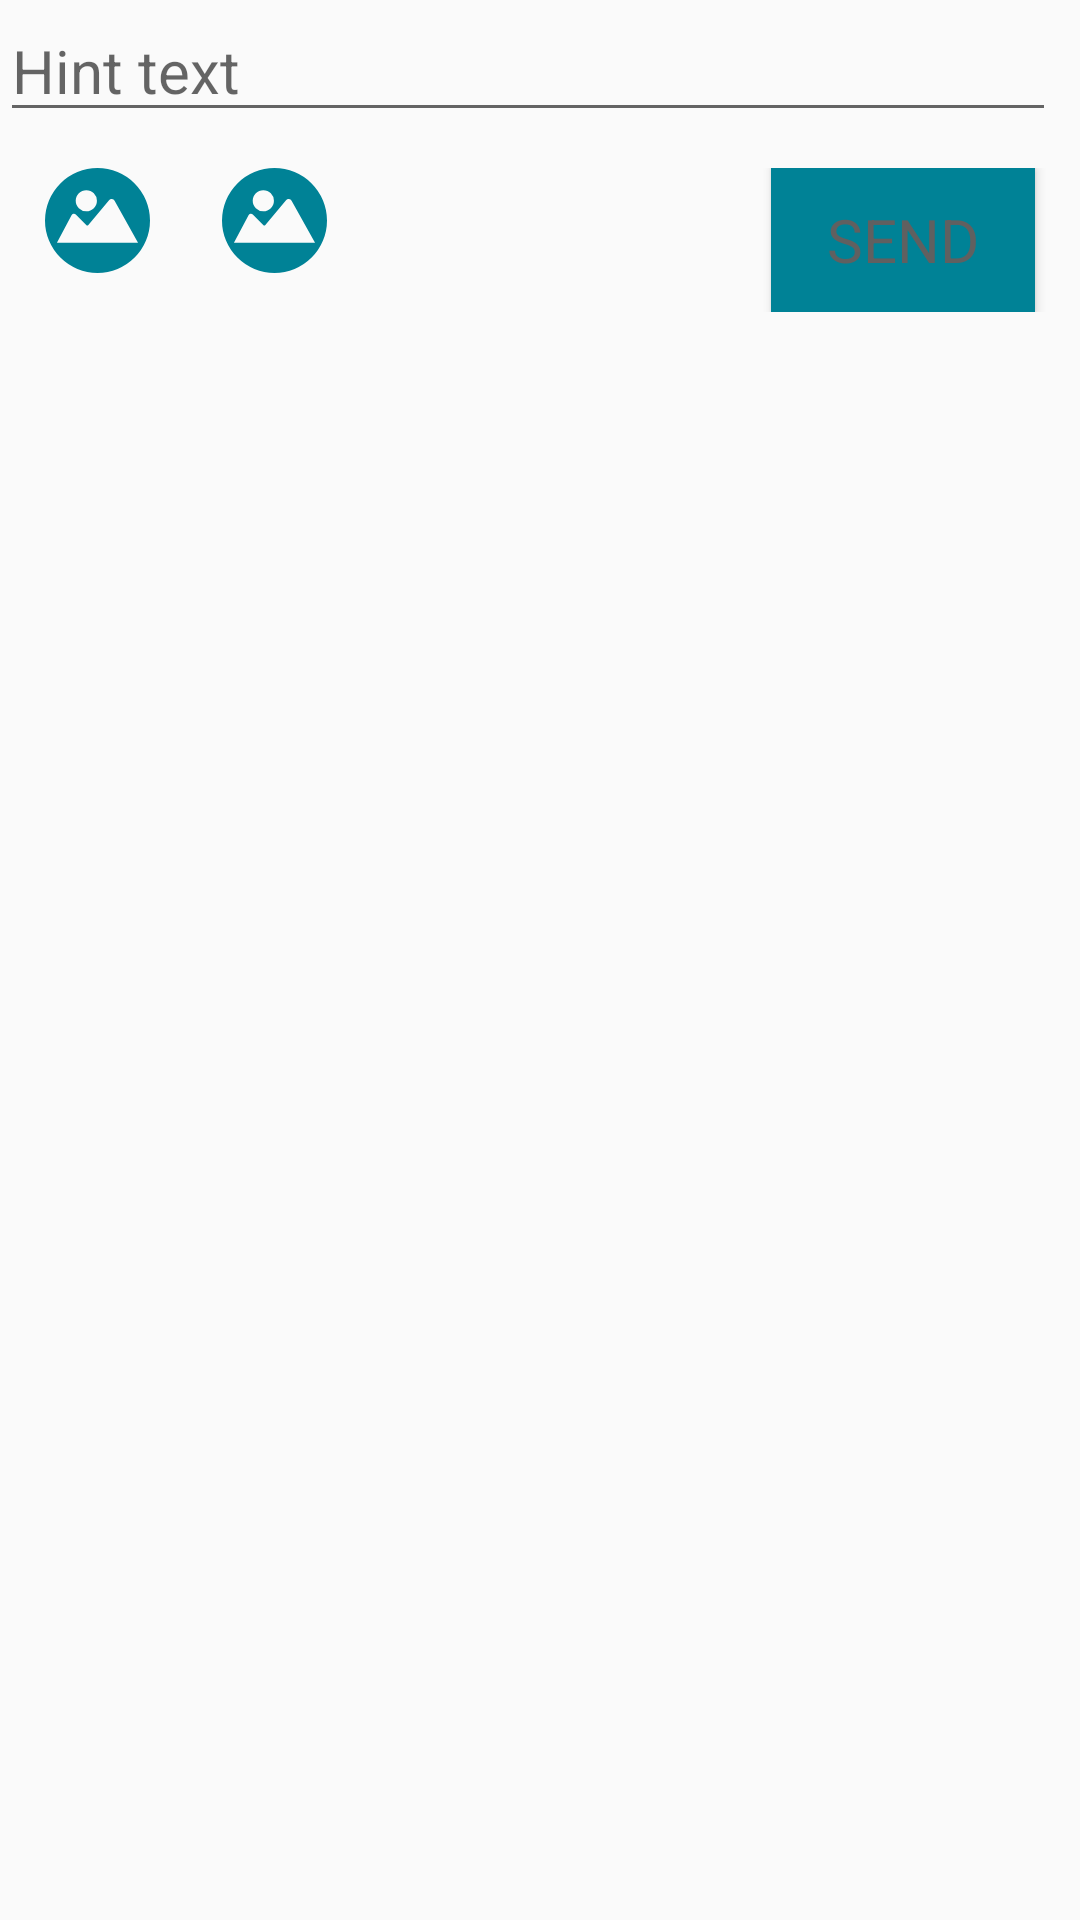

Named icons in this screenshot (1080 × 1920) and their bounding boxes, (x1, y1, x2, y2):
album rund: (45, 168, 150, 273), (222, 168, 327, 273)
